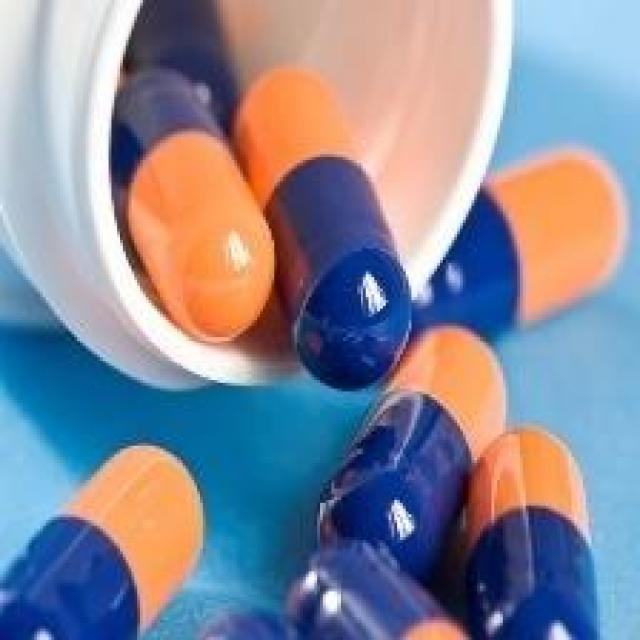Medicine: (0, 0, 621, 640)
